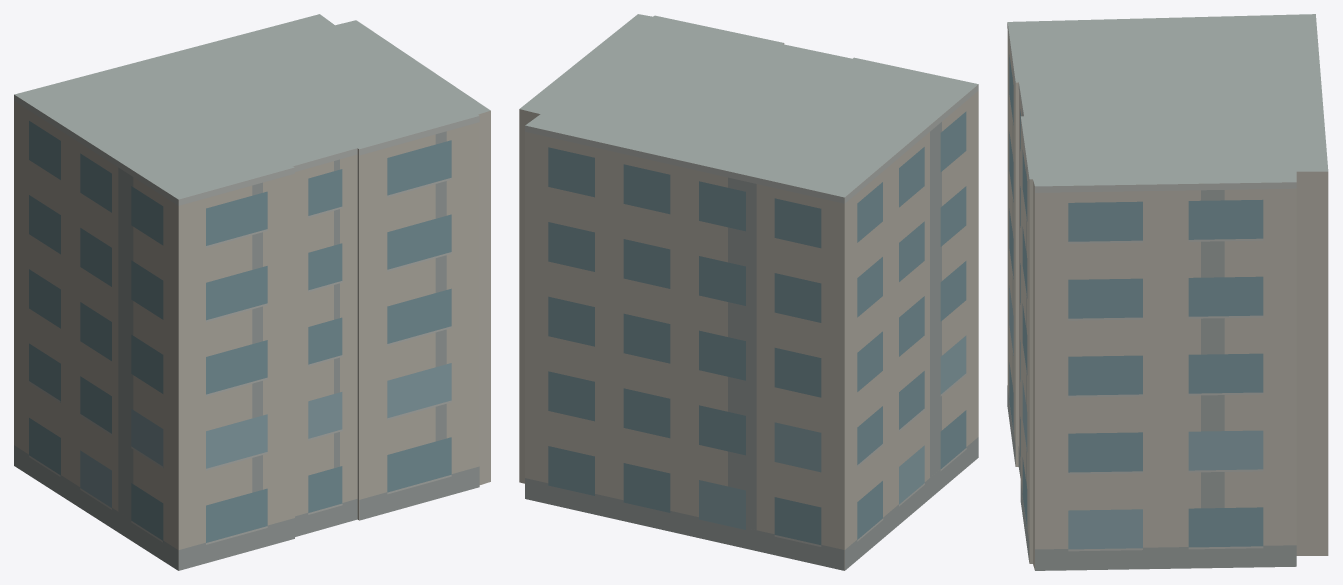
File: survey-upis-32890794.glb
The picture shows the model from 3 angles, left to right: view 1: azimuth 30°, elevation 25°; view 2: azimuth 150°, elevation 25°; view 3: azimuth 270°, elevation 25°; orthographic projection. The views are drawn at different scales.
Parts seen in each view (by area): view 1: survey-upis-32890794.tmp; view 2: survey-upis-32890794.tmp; view 3: survey-upis-32890794.tmp.
Boxes of the visible parts, left/top/right/bottom form: survey-upis-32890794.tmp: left=14, top=14, right=490, bottom=570; survey-upis-32890794.tmp: left=519, top=14, right=978, bottom=570; survey-upis-32890794.tmp: left=1007, top=14, right=1328, bottom=570.
Bounding box in the file's own units: 13.91 × 14.45 × 10.94.
